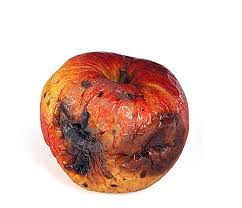damaged_apple: (38, 53, 194, 192)
